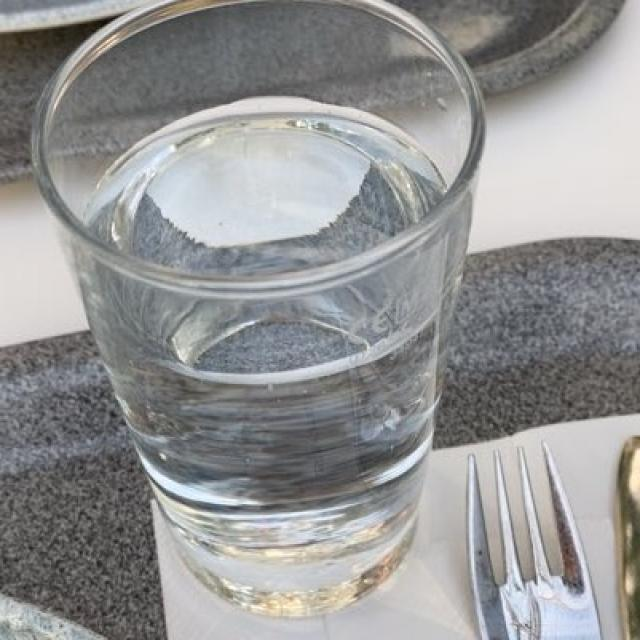water: (97, 111, 434, 623)
